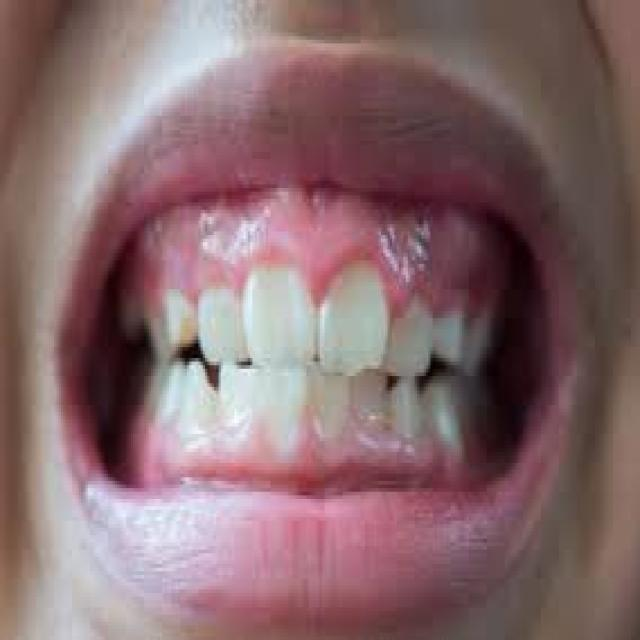tooth: (325, 264, 383, 372), (248, 264, 311, 362), (252, 271, 316, 358), (198, 271, 248, 365), (259, 362, 307, 452), (308, 362, 352, 452), (396, 300, 442, 376), (174, 380, 218, 438), (225, 354, 257, 430), (354, 365, 385, 427)
